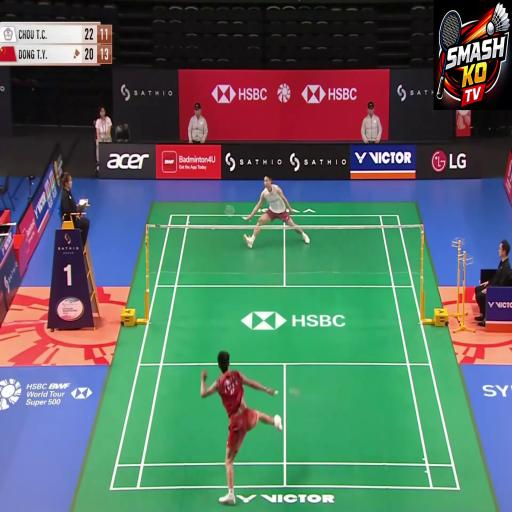player: (182, 316, 292, 509), (243, 150, 317, 262)
